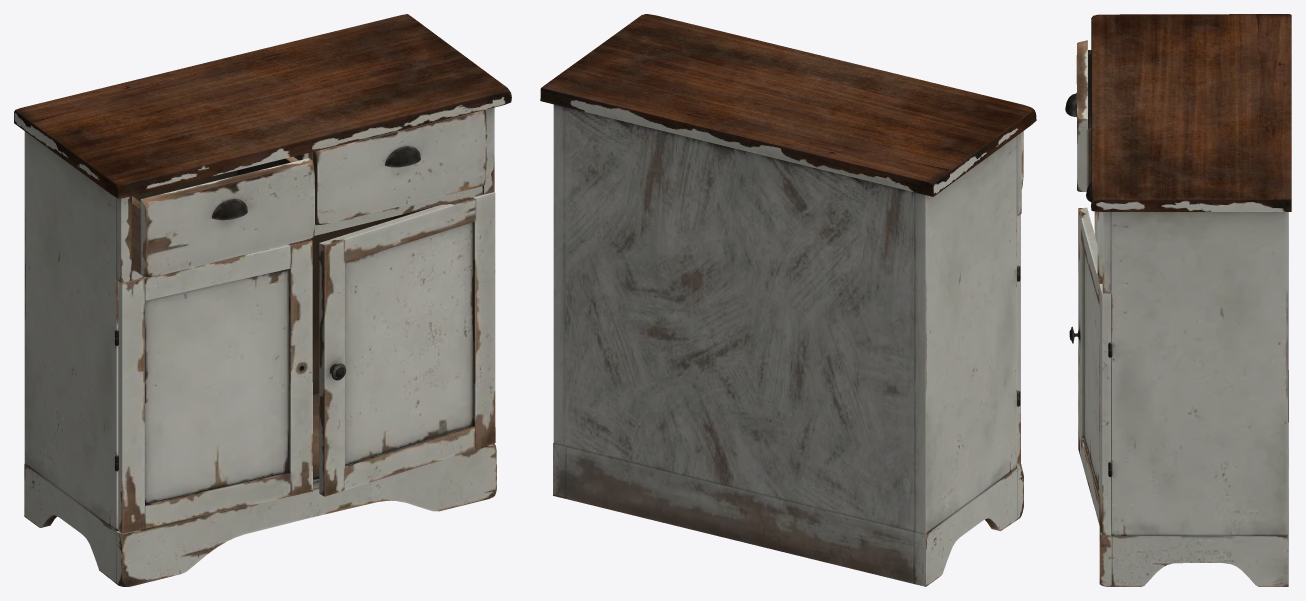
Rendered from painted_wooden_cabinet.glb.
3 renders of one model, left to right at view 1: azimuth 30°, elevation 25°; view 2: azimuth 150°, elevation 25°; view 3: azimuth 270°, elevation 25°, orthographic. The views are drawn at different scales.
Parts seen in each view (by area): view 1: painted_wooden_cabinet; view 2: painted_wooden_cabinet; view 3: painted_wooden_cabinet.
Part boxes in pixels (<box>): painted_wooden_cabinet: <box>14,14,511,586</box>; painted_wooden_cabinet: <box>540,14,1036,586</box>; painted_wooden_cabinet: <box>1065,14,1291,586</box>.
Bounding box in the file's own units: 1.19 × 1.18 × 0.6166.
Materials: 1 (1 with a texture image).
